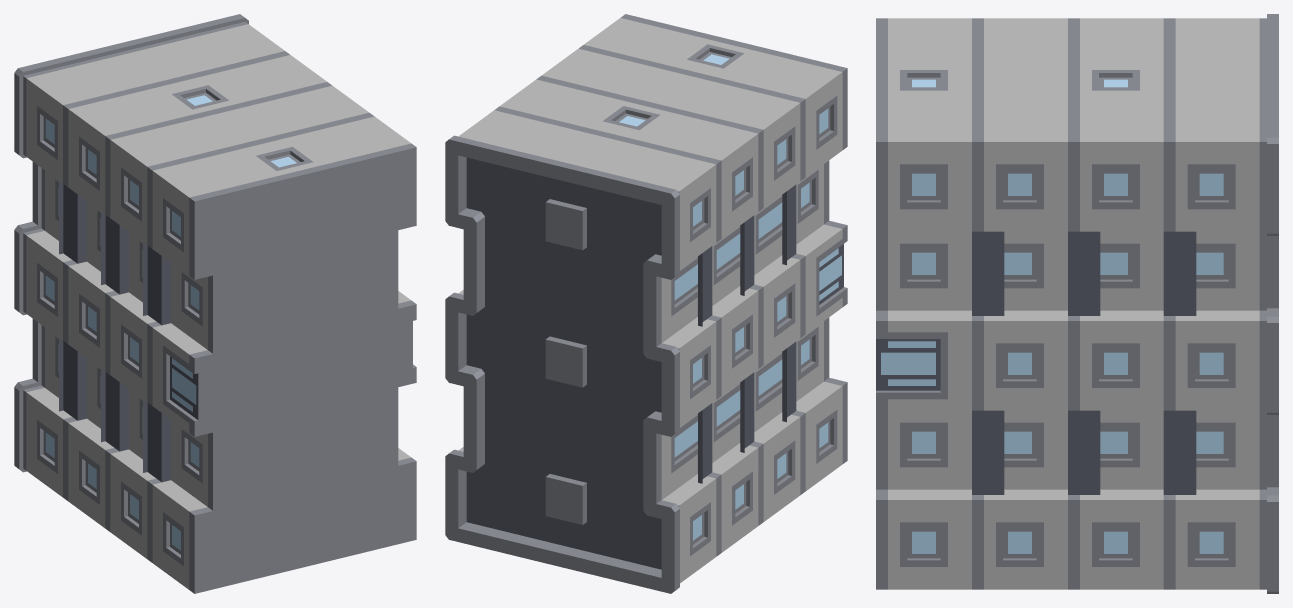
File: building1.glb
3 views of the same model, side by side, from view 1: azimuth 30°, elevation 25°; view 2: azimuth 150°, elevation 25°; view 3: azimuth 270°, elevation 25° (orthographic). The views are drawn at different scales.
Parts seen in each view (by area): view 1: large_buildingA; view 2: large_buildingA; view 3: large_buildingA.
Part boxes in pixels (x1,y1,x2,y2): large_buildingA: (14,14,416,593); large_buildingA: (445,14,847,593); large_buildingA: (876,14,1278,593).
Size of the model in its own units: 6 by 10 by 8.
